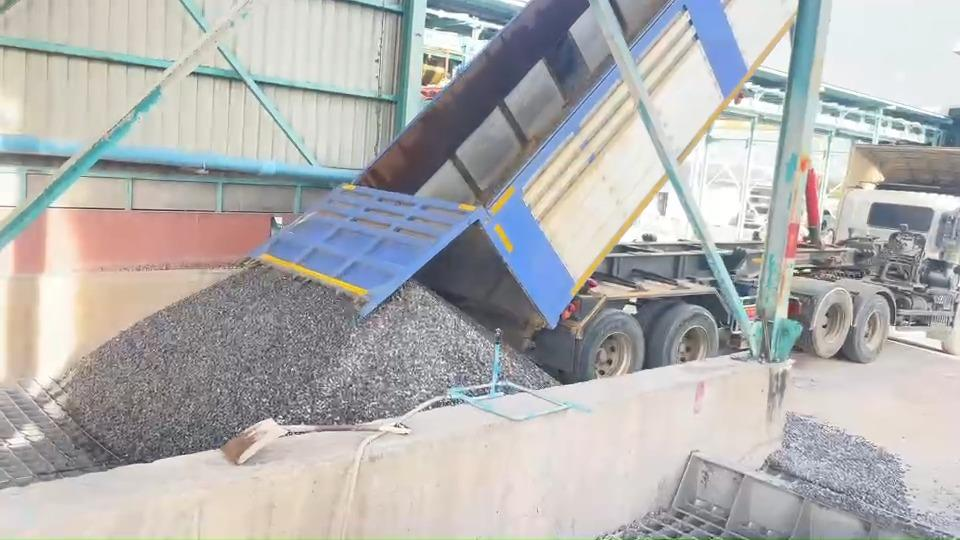gravel: (59, 266, 492, 461), (764, 413, 959, 537), (504, 348, 556, 388)
